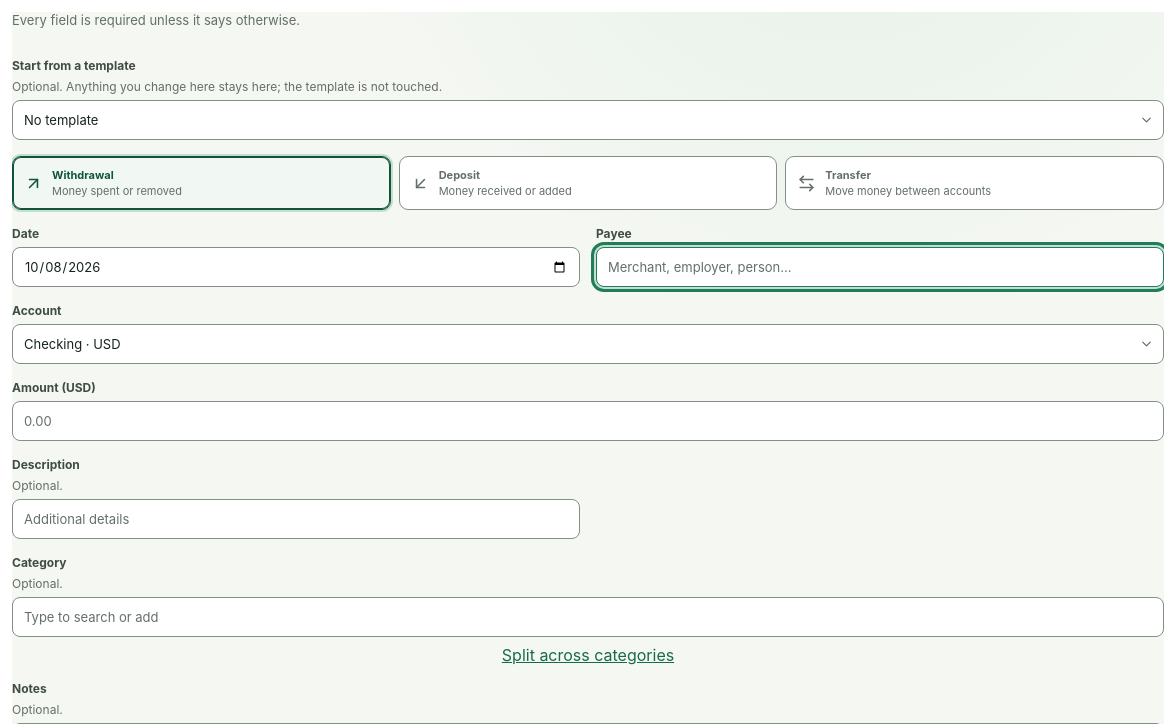
Scenario: starting a transaction from a template › keeps a category that runs against the type, because that is a refund
Select "Wrong kind" in the dropdown labelled "Start from a template": (588,120) [12,100,1164,140]
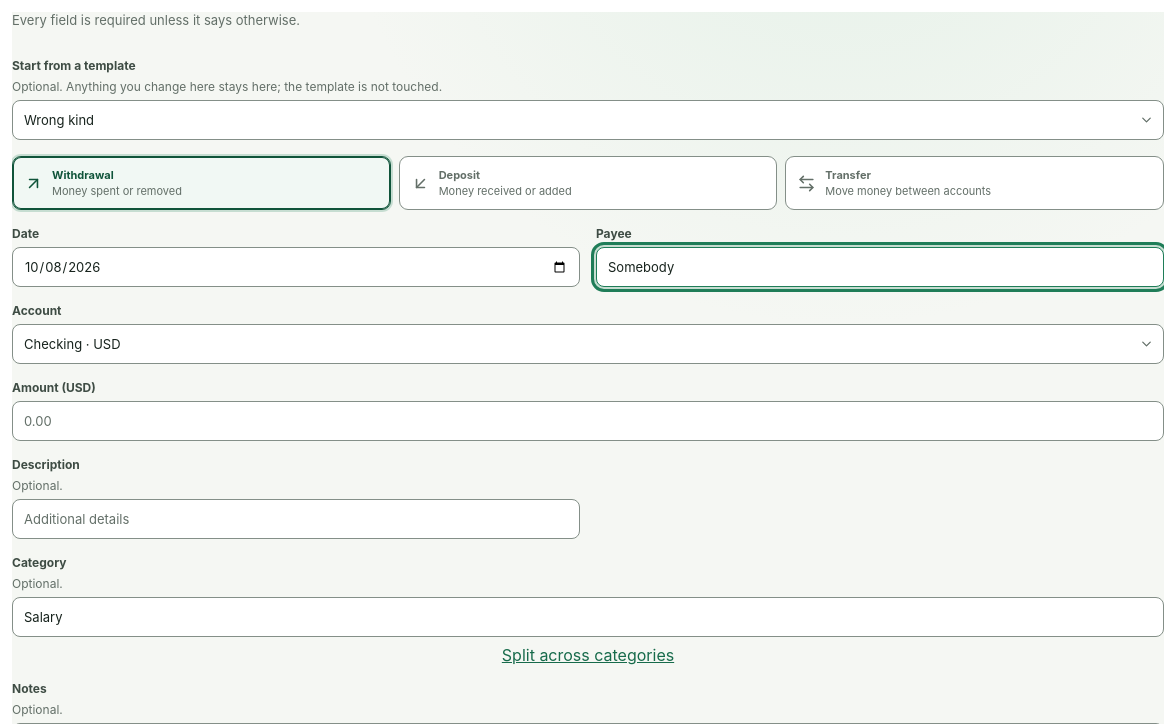
expect the field named "Category" holds "Salary": met, box [12,597,1164,637]
